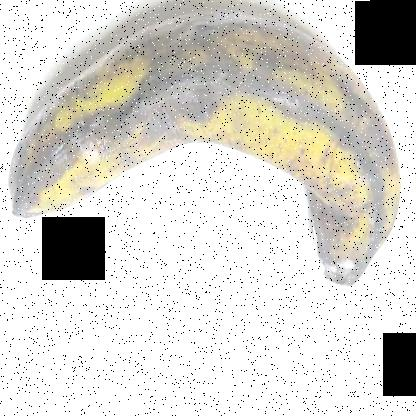overripe: (6, 4, 408, 312)
rotten: (286, 194, 400, 312)
